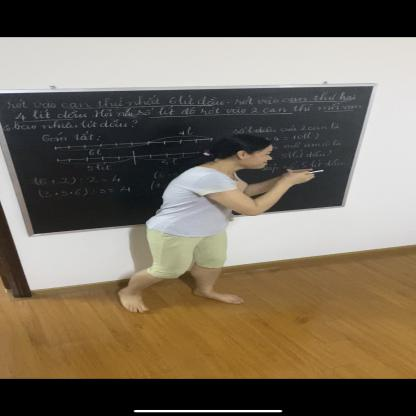cigarette: (307, 169, 326, 174)
person: (113, 133, 322, 315)
